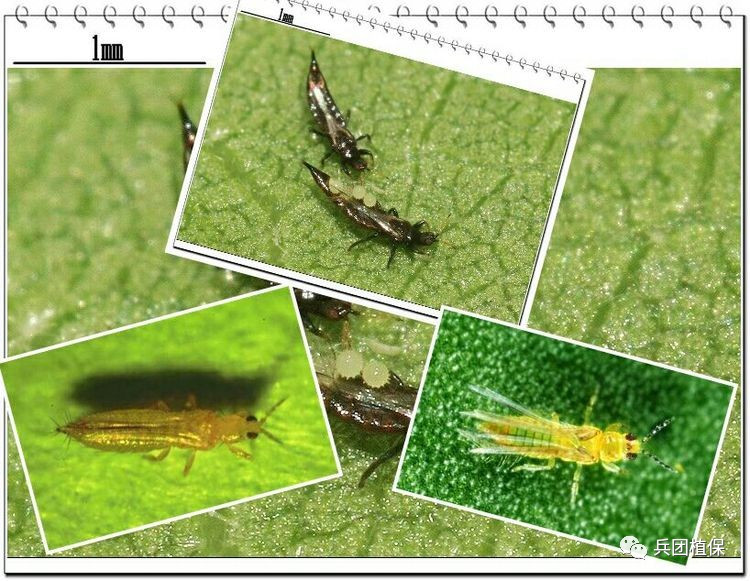thrips: (454, 380, 684, 510), (53, 391, 292, 478), (301, 159, 454, 270), (311, 349, 420, 488), (301, 47, 378, 175), (261, 276, 369, 349), (174, 103, 199, 178)
